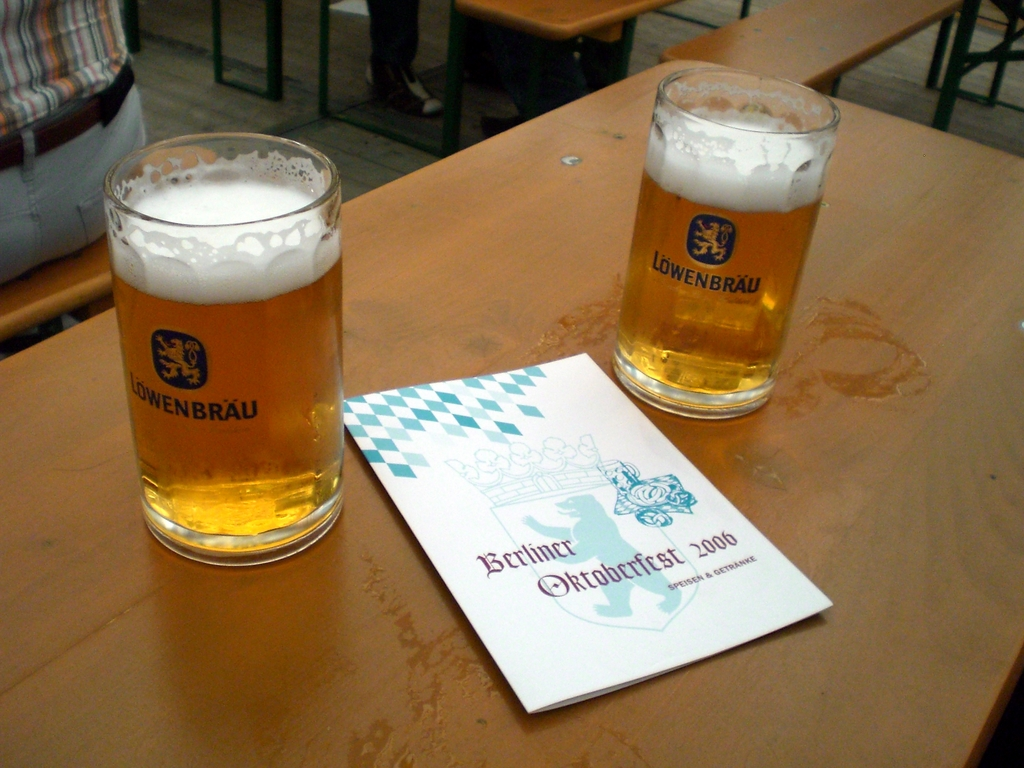Beer: (112, 186, 346, 540), (614, 110, 826, 390)
